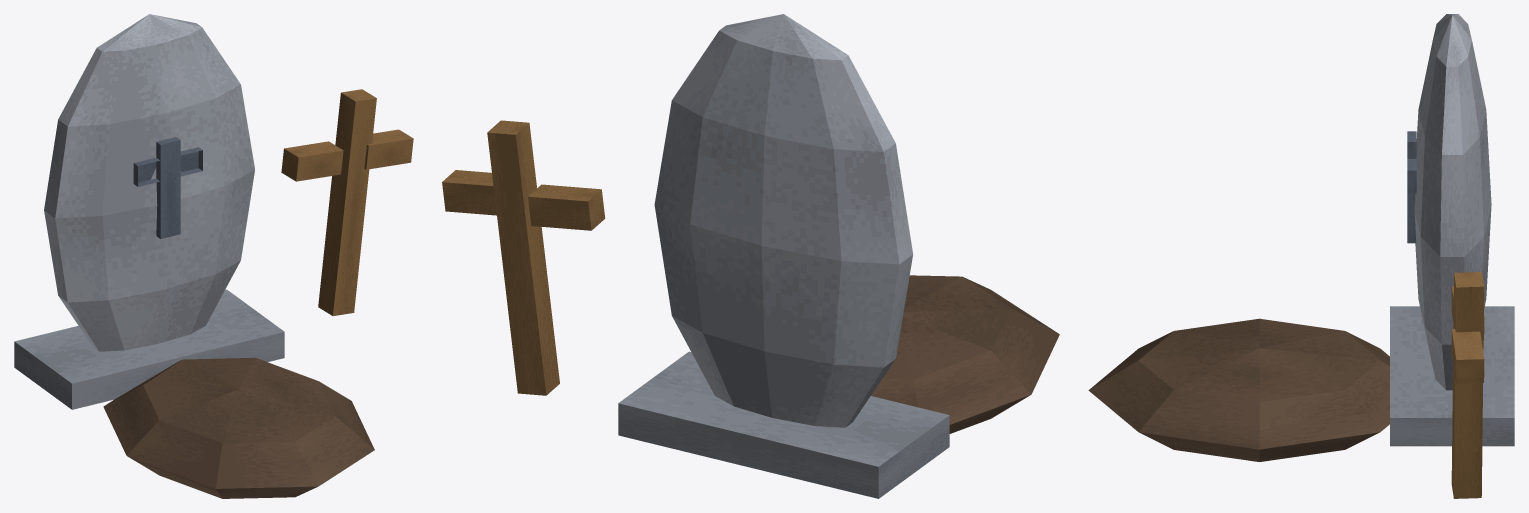
Rendered from prop_tombstone.glb.
3 views of the same model, side by side, from view 1: azimuth 30°, elevation 25°; view 2: azimuth 150°, elevation 25°; view 3: azimuth 270°, elevation 25° (orthographic). The views are drawn at different scales.
Parts seen in each view (by area): view 1: prop_tombstone; view 2: prop_tombstone; view 3: prop_tombstone.
Part boxes in pixels (left/top/right/bottom): prop_tombstone: left=14, top=14, right=413, bottom=498; prop_tombstone: left=442, top=14, right=1059, bottom=498; prop_tombstone: left=1088, top=14, right=1514, bottom=498.
Size of the model in its own units: 1.51 by 1.48 by 1.37.
Materials: 1 (1 with a texture image).
